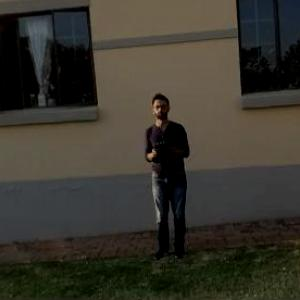follow: (142, 85, 198, 261)
